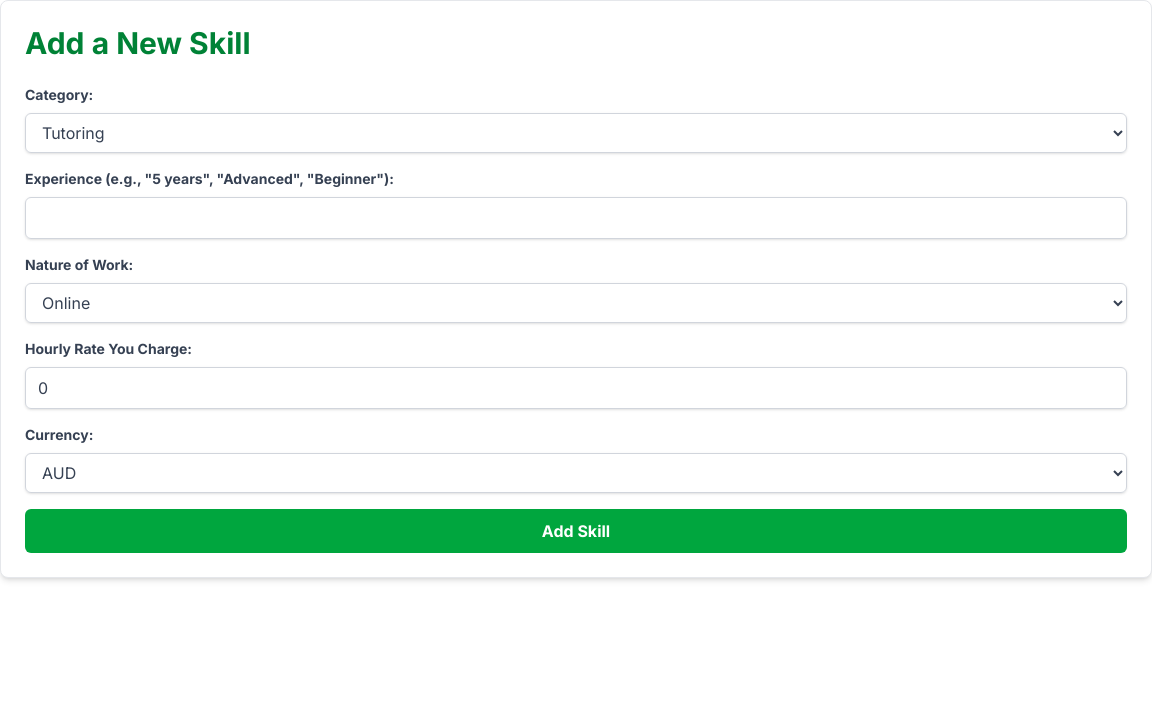
Test: CreateSkillPage › shows API error message
This screenshot has width=1152, height=720.
Type "1 year" into the field labelled "Experience (e.g., \"5 years\", \"Advanced\", \"Beginner\"):".
click(576, 218); type("1 year")  # box [25,197,1127,239]
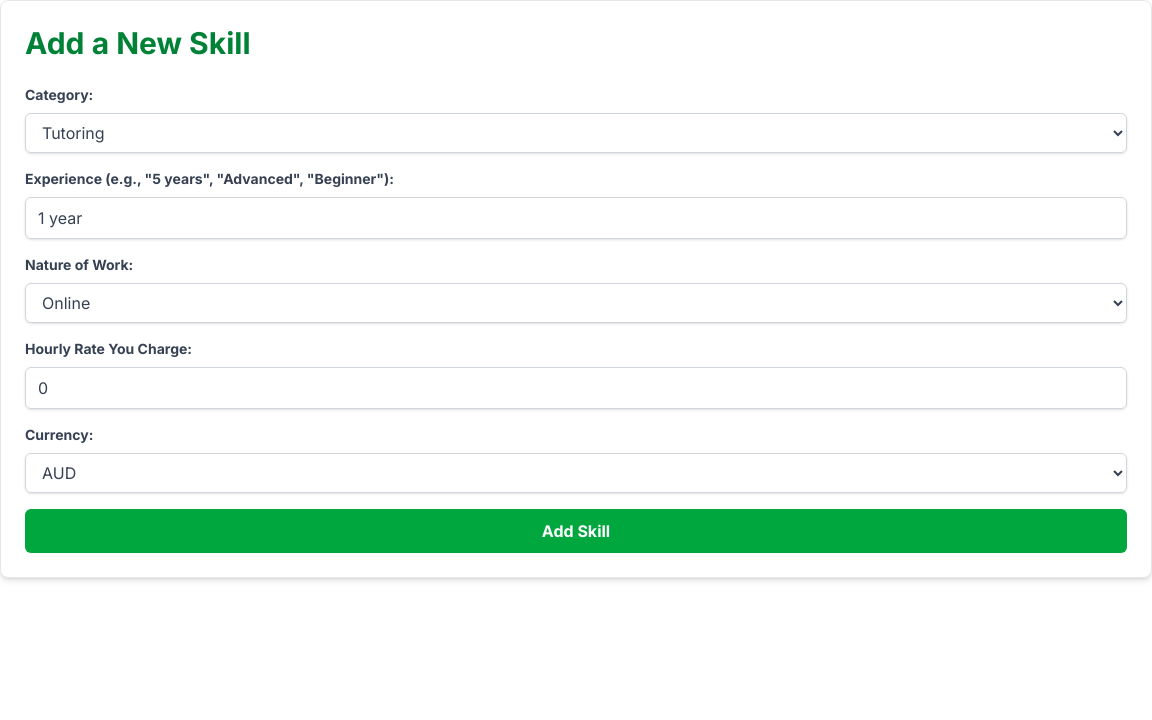
Replace the text in the number field labelled "Hourly Rate You Charge:" with "20" at x=576, y=388, box [25,367,1127,409]
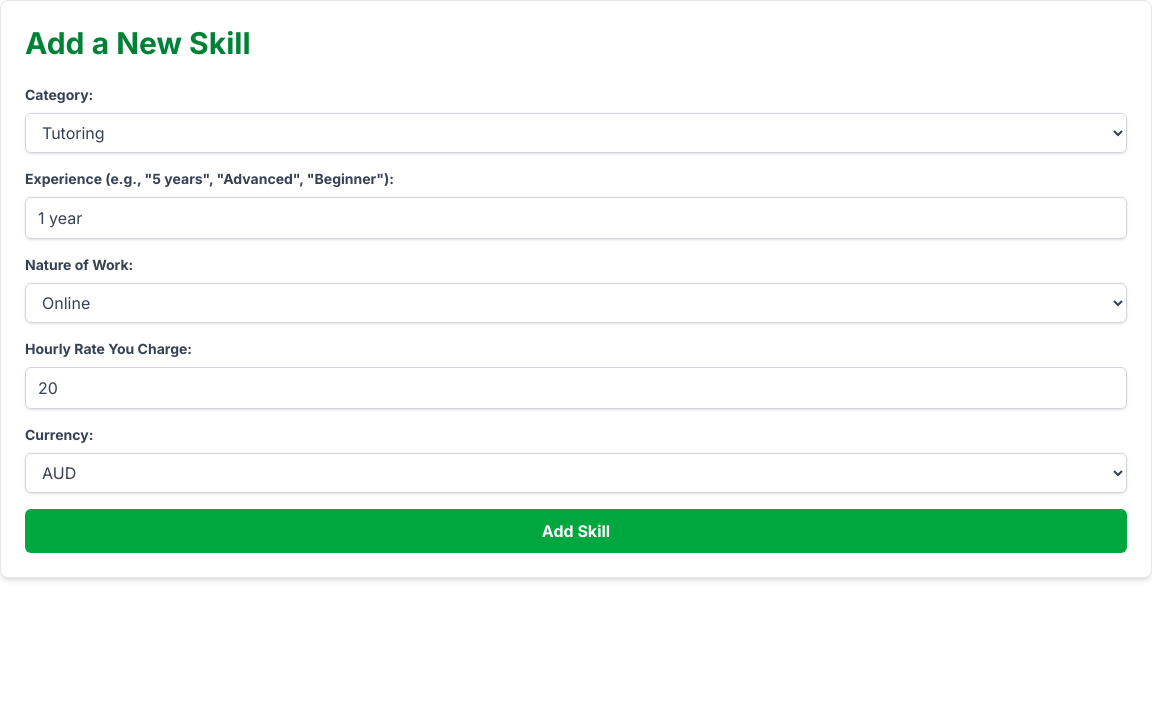
Click the button "Add Skill".
click(576, 531)  # box [25,509,1127,553]
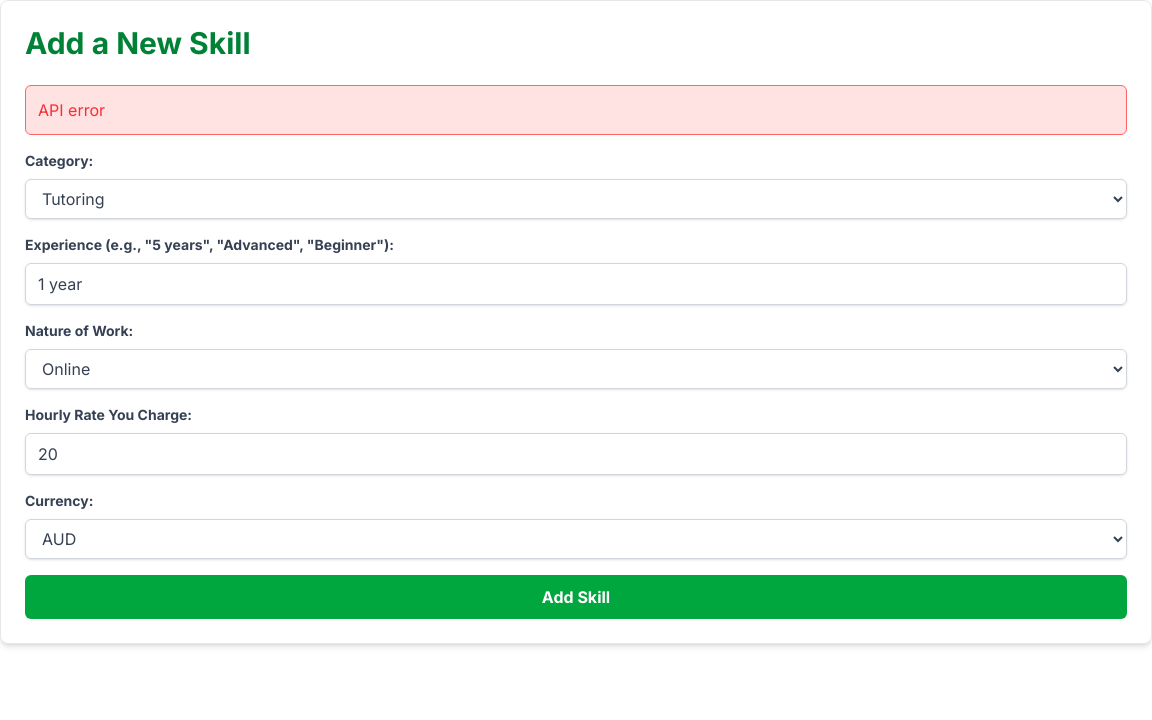
Result: the text "API error" is shown at [25,85,1127,135]
